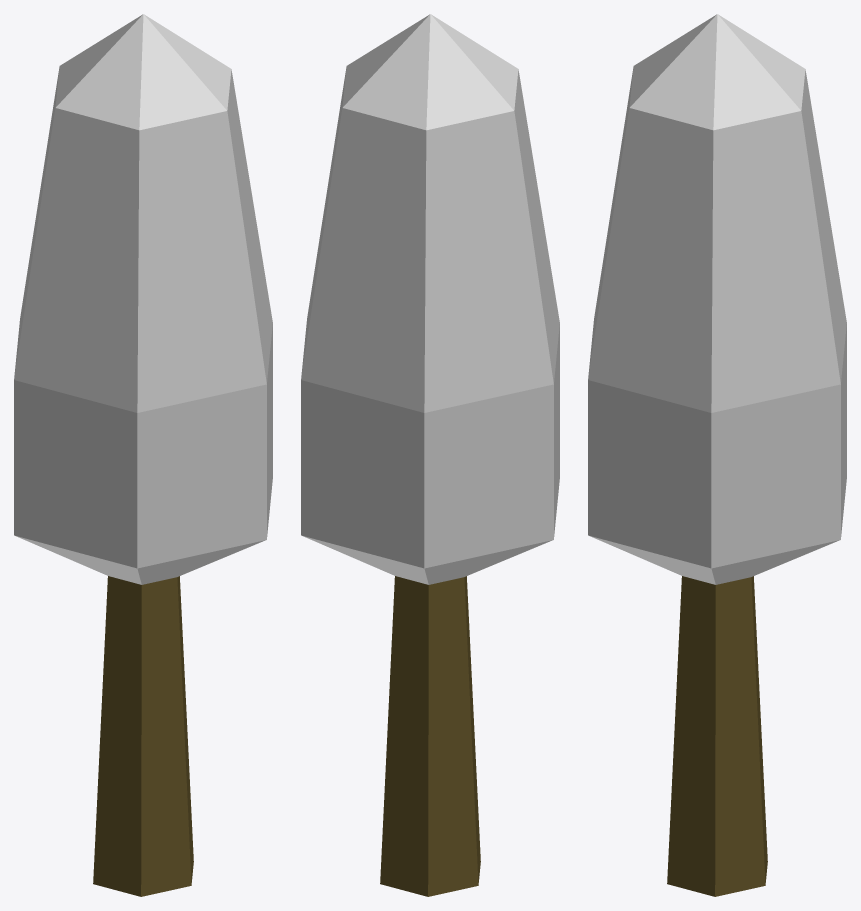
Rendered from Vegetation_Tree_Common_Winter_01.fbx.
The picture shows the model from 3 angles, left to right: view 1: azimuth 30°, elevation 25°; view 2: azimuth 150°, elevation 25°; view 3: azimuth 270°, elevation 25°; orthographic projection.
Parts seen in each view (by area): view 1: Vegetation_Tree_Common_Winter_01; view 2: Vegetation_Tree_Common_Winter_01; view 3: Vegetation_Tree_Common_Winter_01.
Boxes of the visible parts, x1,y1,x2,y2 form: Vegetation_Tree_Common_Winter_01: (14, 14, 272, 896); Vegetation_Tree_Common_Winter_01: (301, 14, 559, 896); Vegetation_Tree_Common_Winter_01: (588, 14, 846, 896).
Bounding box in the file's own units: 1488 × 4830 × 1319.
